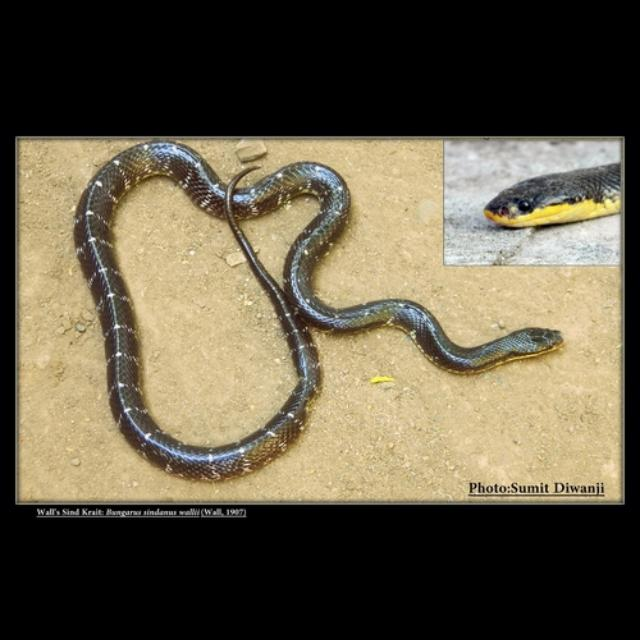snake: (72, 138, 566, 462)
